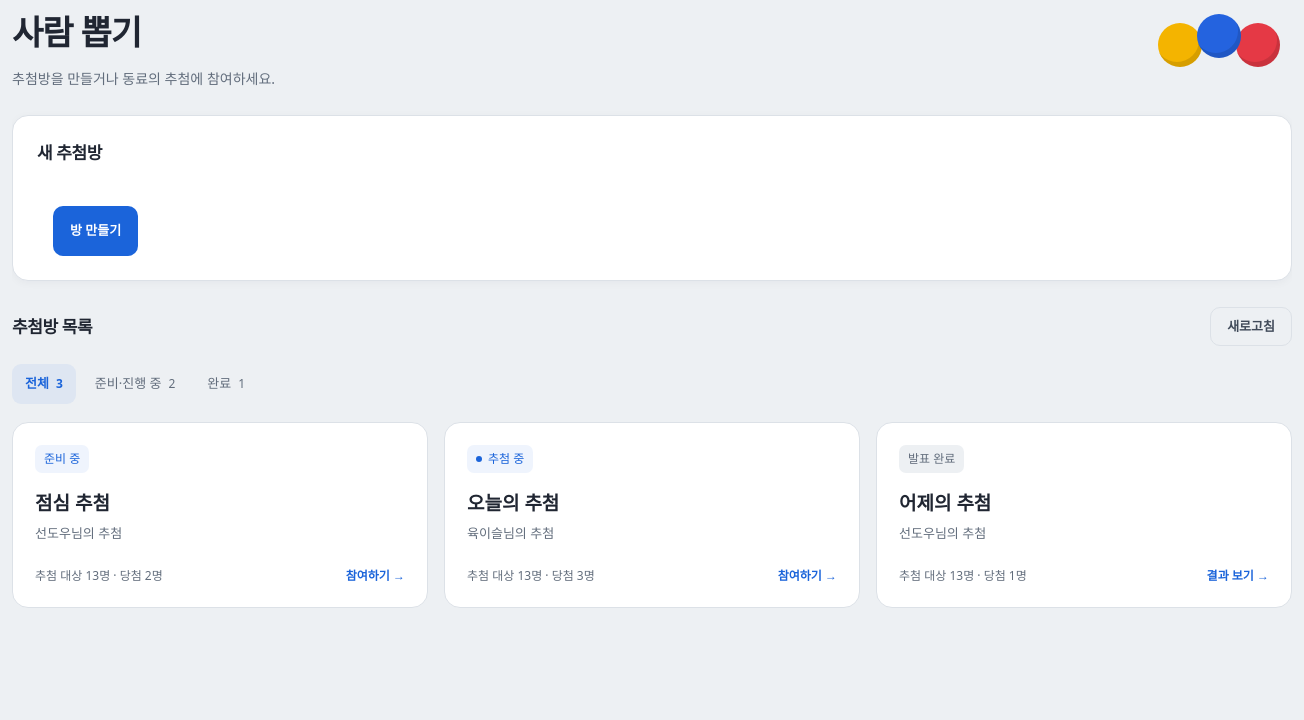
Test case: LotteryLobby › shows active rooms before completed rooms and filters without changing the source list
The image size is (1304, 720).
Click the button "준비·진행 중 2": point(135, 384) x1=82 y1=364 x2=188 y2=404
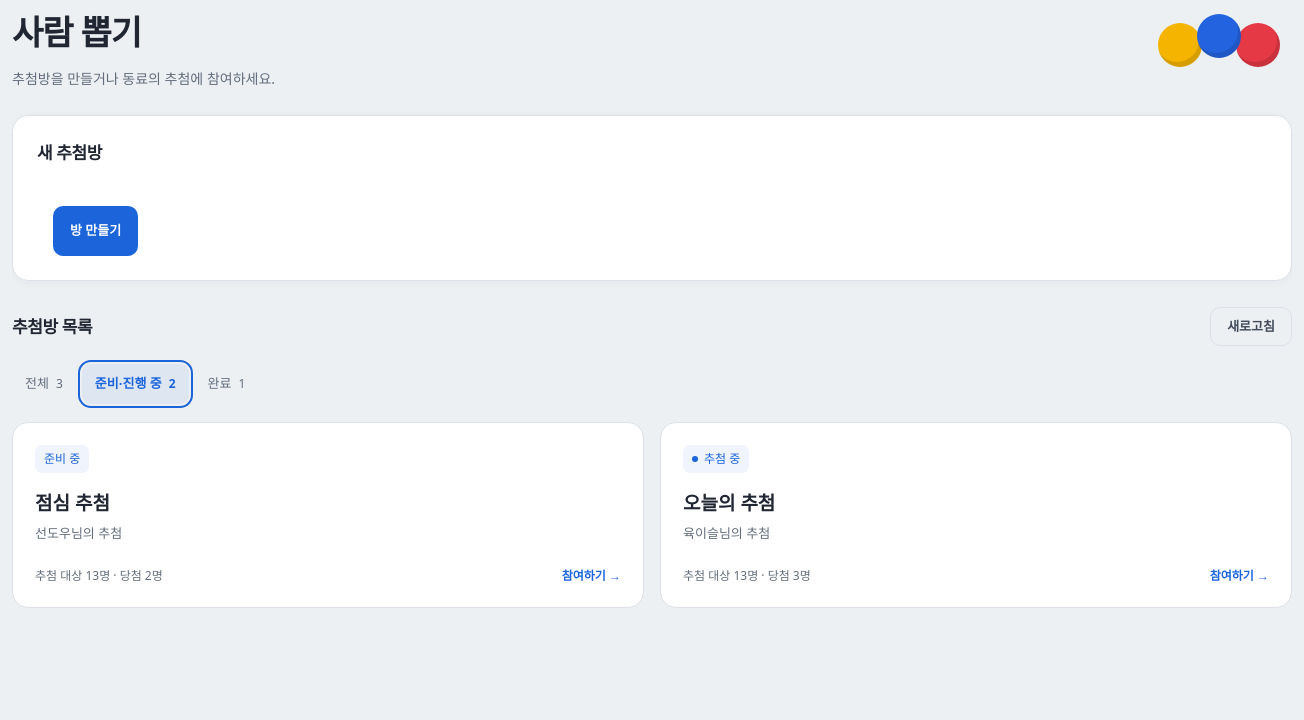
Now the number of links is 2, box x1=12 y1=422 x2=644 y2=608; x1=660 y1=422 x2=1292 y2=608
Now the link "어제의 추첨" is gone
Click the button "완료 1": point(226, 384) x1=195 y1=364 x2=258 y2=404
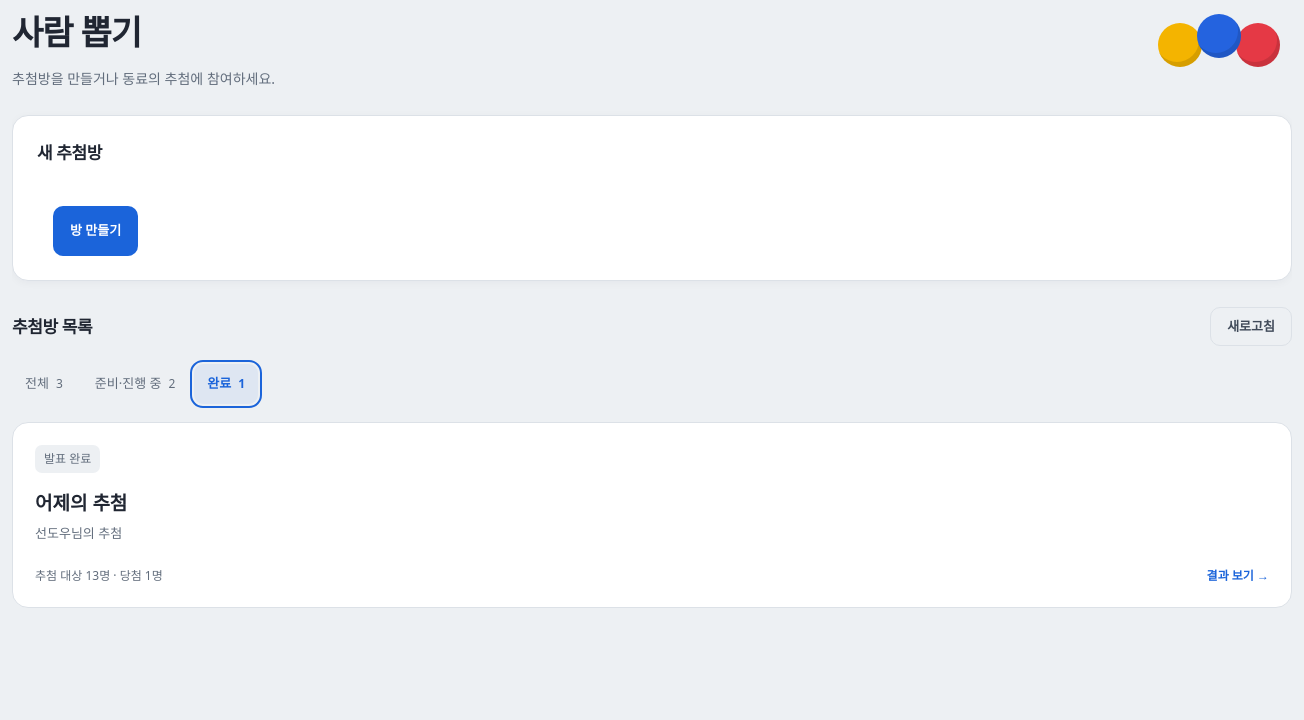
Now the number of links is 1, box x1=12 y1=422 x2=1292 y2=608
Now the link "어제의 추첨" shows "결과 보기", box x1=12 y1=422 x2=1292 y2=608
